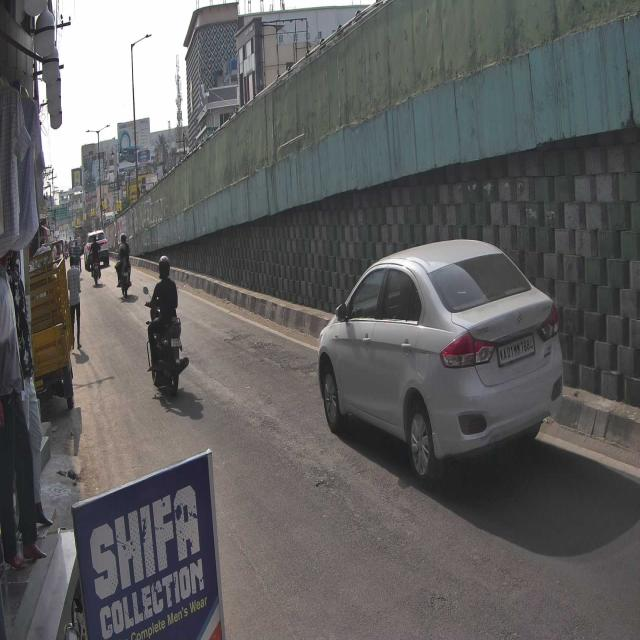single_rider: (143, 254, 192, 404)
